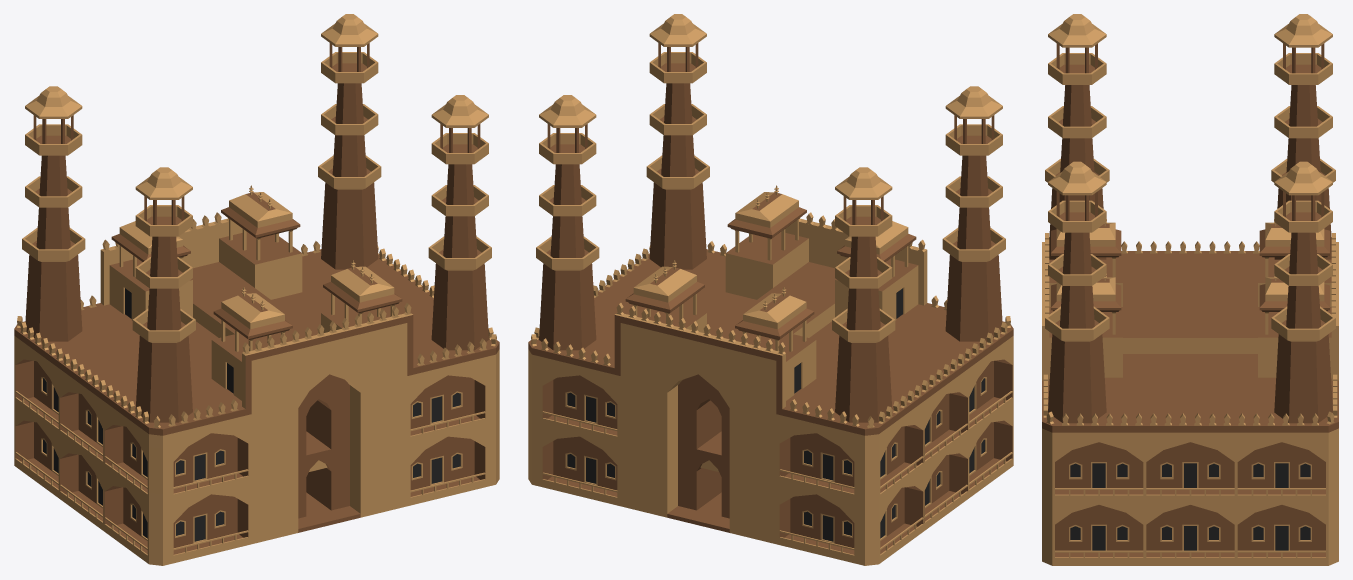
The model's file is hindu-tomb.glb.
The picture shows the model from 3 angles, left to right: view 1: azimuth 30°, elevation 25°; view 2: azimuth 150°, elevation 25°; view 3: azimuth 270°, elevation 25°; orthographic projection. The views are drawn at different scales.
Parts seen in each view (by area): view 1: hindu-tomb; view 2: hindu-tomb; view 3: hindu-tomb.
Boxes of the visible parts, <box> form: hindu-tomb: <box>14,14,499,565</box>; hindu-tomb: <box>528,14,1013,565</box>; hindu-tomb: <box>1042,14,1338,565</box>.
Bounding box in the file's own units: 28.2 × 29.1 × 20.2.
1 material, 1 textured.
